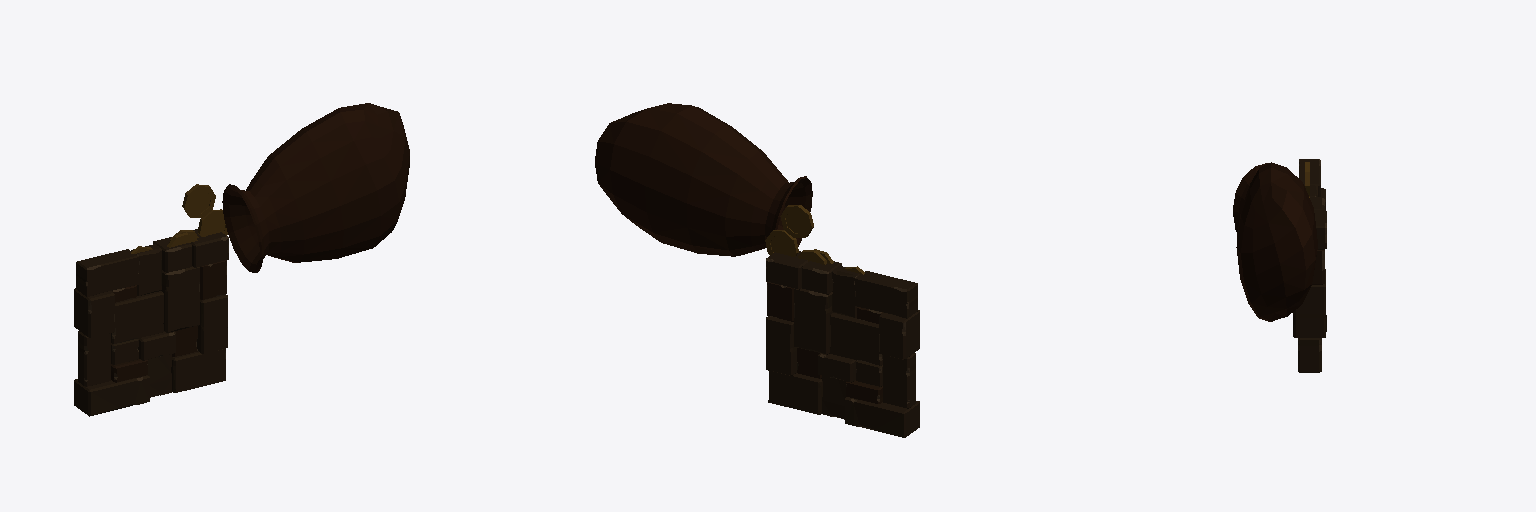
Rendered from Wall_Modular_Cube.obj.
3 views of the same model, side by side, from view 1: azimuth 30°, elevation 25°; view 2: azimuth 150°, elevation 25°; view 3: azimuth 270°, elevation 25° (orthographic).
Visible parts, largest first — view 1: Bag_Coins_Cylinder.001, Wall_Modular_Cube.005; view 2: Bag_Coins_Cylinder.001, Wall_Modular_Cube.005; view 3: Bag_Coins_Cylinder.001, Wall_Modular_Cube.005.
Boxes of the visible parts, box(x1,y1,x2,y2) form: Bag_Coins_Cylinder.001: box(131, 103, 409, 272); Wall_Modular_Cube.005: box(74, 229, 228, 416); Bag_Coins_Cylinder.001: box(595, 103, 864, 274); Wall_Modular_Cube.005: box(766, 251, 919, 437); Bag_Coins_Cylinder.001: box(1233, 162, 1317, 321); Wall_Modular_Cube.005: box(1293, 159, 1326, 372).
Size of the model in its own units: 4.57 by 3.48 by 1.17.